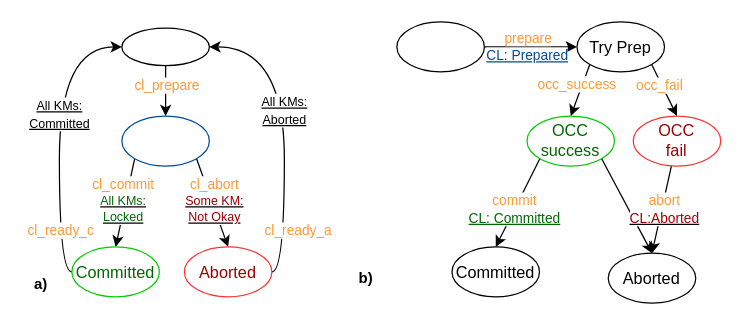
The diagram is 743 pixels wide and 325 high, and some of its shapes have lost their labels. Each missing label, with the box of its shape:
Idle: (396, 21, 484, 72)
Init: (121, 27, 209, 66)
Prepared: (121, 115, 209, 166)
